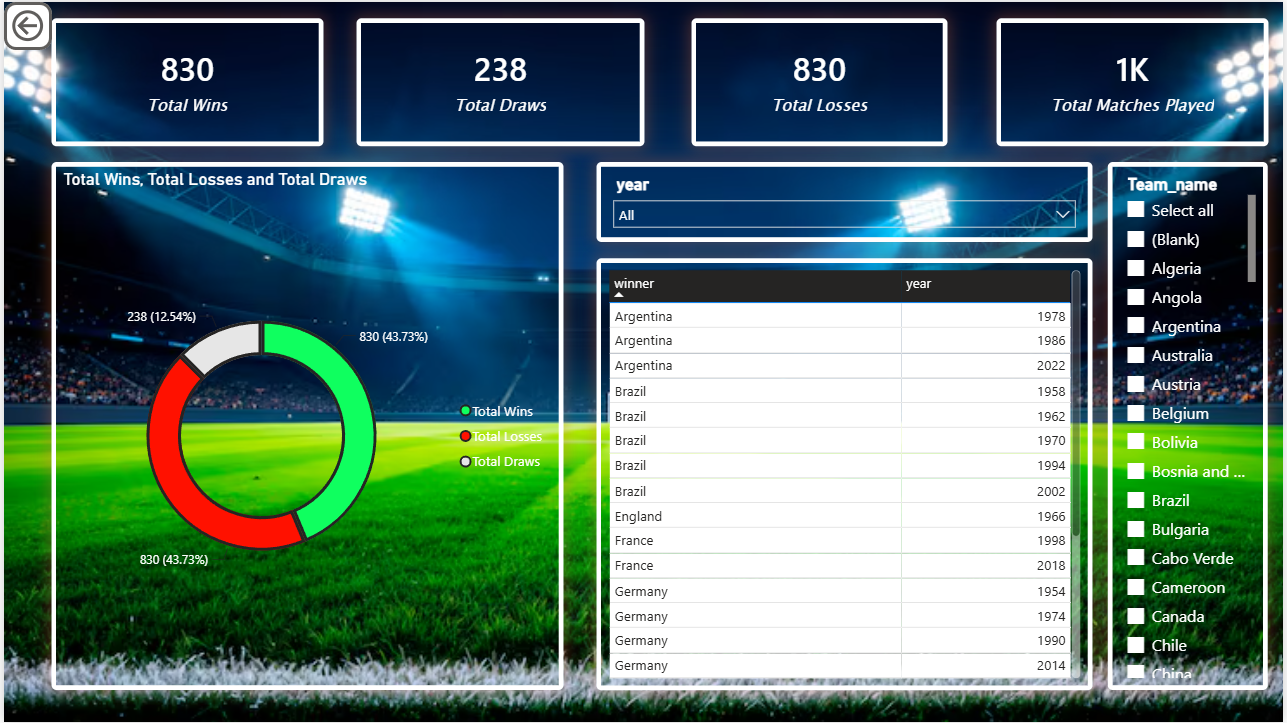

What the dashboard file says about the page in this screenshot:
{"tool":"powerbi","page":{"name":"Team Deep-Dive","canvas":[1280,720],"ordinal":2},"visuals":[{"type":"cardVisual","fields":{"Data":["Measure.Total Wins"]},"box":[48,16,272,128],"z":0},{"type":"cardVisual","fields":{"Data":["Measure.Total Draws"]},"box":[352,16,288,128],"z":1000},{"type":"cardVisual","fields":{"Data":["Measure.Total Losses"]},"box":[688,16,256,128],"z":2000},{"type":"cardVisual","fields":{"Data":["Measure.Total Matches Played"]},"box":[992,16,272,128],"z":3000},{"type":"slicer","fields":{"Values":["dim_team.team_name"]},"box":[1104,160,160,528],"z":4000},{"type":"slicer","fields":{"Values":["dim_tournament.year"]},"box":[592,160,496,80],"z":5000},{"type":"donutChart","title":"Total Wins, Total Losses and Total Draws","fields":{"Y":["Measure.Total Wins","Measure.Total Losses","Measure.Total Draws"]},"box":[48,160,512,528],"z":6000},{"type":"tableEx","fields":{"Values":["dim_tournament.winner","dim_tournament.year"]},"box":[592,256,496,432],"z":7000},{"type":"actionButton","box":[0,0,48,48],"z":7001}]}

Visuals, with their boxes in screenshot pixels (x1, y1, x2, y2), scaled from the page's 1280x720 canvas onto the 1287x723 screenshot:
cardVisual - Measure.Total Wins: (48,16,322,145)
cardVisual - Measure.Total Draws: (354,16,644,145)
cardVisual - Measure.Total Losses: (692,16,949,145)
cardVisual - Measure.Total Matches Played: (997,16,1271,145)
slicer - dim_team.team_name: (1110,161,1271,691)
slicer - dim_tournament.year: (595,161,1094,241)
"Total Wins, Total Losses and Total Draws" donutChart: (48,161,563,691)
tableEx - dim_tournament.winner x dim_tournament.year: (595,257,1094,691)
actionButton: (0,0,48,48)
